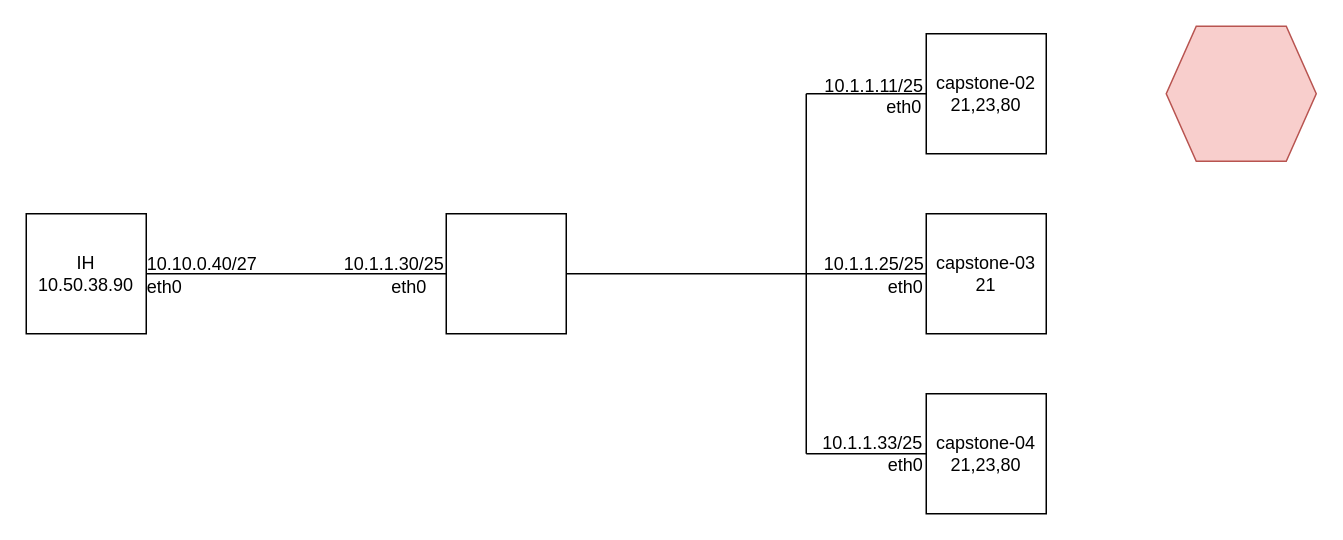
Image size: 1343x540. Some labels were removed from this diagram. The centre of each missing label's shape, as x and y in pixels:
"Initial Pivot 10.50.24.228" belongs at (505,273).
"STOP" belongs at (1240,93).
